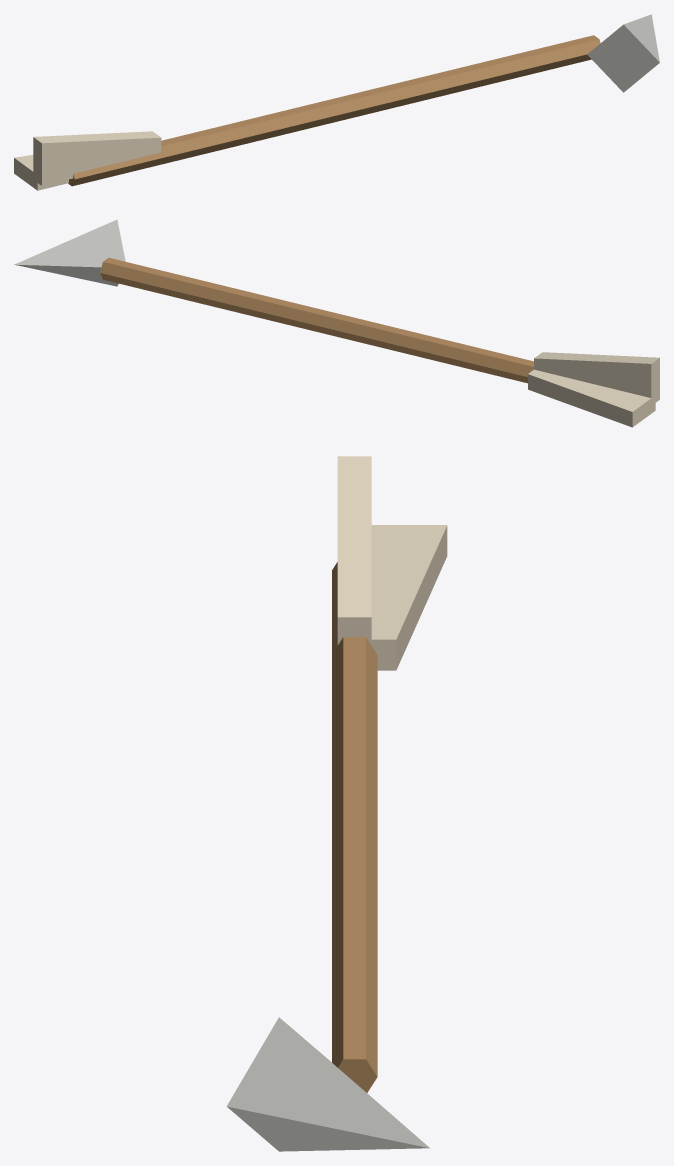
File: IronArrowStack3.glb
3 views of the same model, one above another, from view 1: azimuth 30°, elevation 25°; view 2: azimuth 150°, elevation 25°; view 3: azimuth 270°, elevation 25° (orthographic). The views are drawn at different scales.
Parts seen in each view (by area): view 1: IronArrow_1_shaft, IronArrow_2_shaft, IronArrow_1_fletch_v, IronArrow_3_shaft, IronArrow_2_fletch_v, IronArrow_1_head, IronArrow_2_head, IronArrow_3_head, IronArrow_1_fletch_h, IronArrow_3_fletch_v, IronArrow_2_fletch_h; view 2: IronArrow_1_shaft, IronArrow_3_shaft, IronArrow_2_shaft, IronArrow_1_fletch_h, IronArrow_1_fletch_v, IronArrow_1_head, IronArrow_2_fletch_v, IronArrow_3_head, IronArrow_2_head, IronArrow_3_fletch_v; view 3: IronArrow_1_head, IronArrow_3_shaft, IronArrow_1_shaft, IronArrow_1_fletch_h, IronArrow_2_shaft, IronArrow_3_fletch_h, IronArrow_3_fletch_v, IronArrow_1_fletch_v, IronArrow_3_head, IronArrow_2_fletch_h.
Boxes of the visible parts, x1,y1,x2,y2 form: IronArrow_1_shaft: [68, 35, 600, 185]; IronArrow_2_shaft: [69, 54, 591, 185]; IronArrow_1_fletch_v: [33, 131, 161, 185]; IronArrow_3_shaft: [72, 90, 368, 186]; IronArrow_2_fletch_v: [33, 135, 161, 185]; IronArrow_1_head: [587, 14, 659, 92]; IronArrow_2_head: [588, 18, 657, 91]; IronArrow_3_head: [624, 15, 659, 62]; IronArrow_1_fletch_h: [14, 158, 68, 190]; IronArrow_3_fletch_v: [34, 131, 142, 181]; IronArrow_2_fletch_h: [14, 159, 68, 189]; IronArrow_1_shaft: [100, 257, 533, 382]; IronArrow_3_shaft: [100, 262, 533, 368]; IronArrow_2_shaft: [161, 282, 533, 383]; IronArrow_1_fletch_h: [528, 369, 655, 427]; IronArrow_1_fletch_v: [534, 352, 659, 402]; IronArrow_1_head: [15, 219, 124, 284]; IronArrow_2_fletch_v: [534, 352, 659, 404]; IronArrow_3_head: [19, 220, 125, 285]; IronArrow_2_head: [14, 220, 124, 286]; IronArrow_3_fletch_v: [537, 352, 659, 394]; IronArrow_1_head: [227, 1017, 429, 1151]; IronArrow_3_shaft: [332, 562, 377, 1090]; IronArrow_1_shaft: [332, 720, 377, 1092]; IronArrow_1_fletch_h: [369, 525, 447, 670]; IronArrow_2_shaft: [332, 637, 377, 1092]; IronArrow_3_fletch_h: [368, 525, 447, 668]; IronArrow_3_fletch_v: [337, 456, 371, 644]; IronArrow_1_fletch_v: [337, 456, 371, 644]; IronArrow_3_head: [227, 1027, 428, 1147]; IronArrow_2_fletch_h: [371, 528, 446, 670].
Bounding box in the file's own units: 1.01 × 0.117 × 0.1548.
